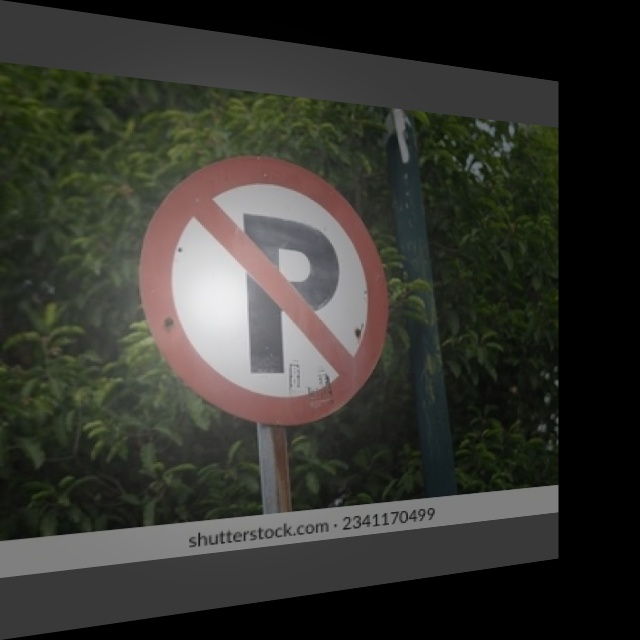No_Parking: (143, 142, 385, 430)
